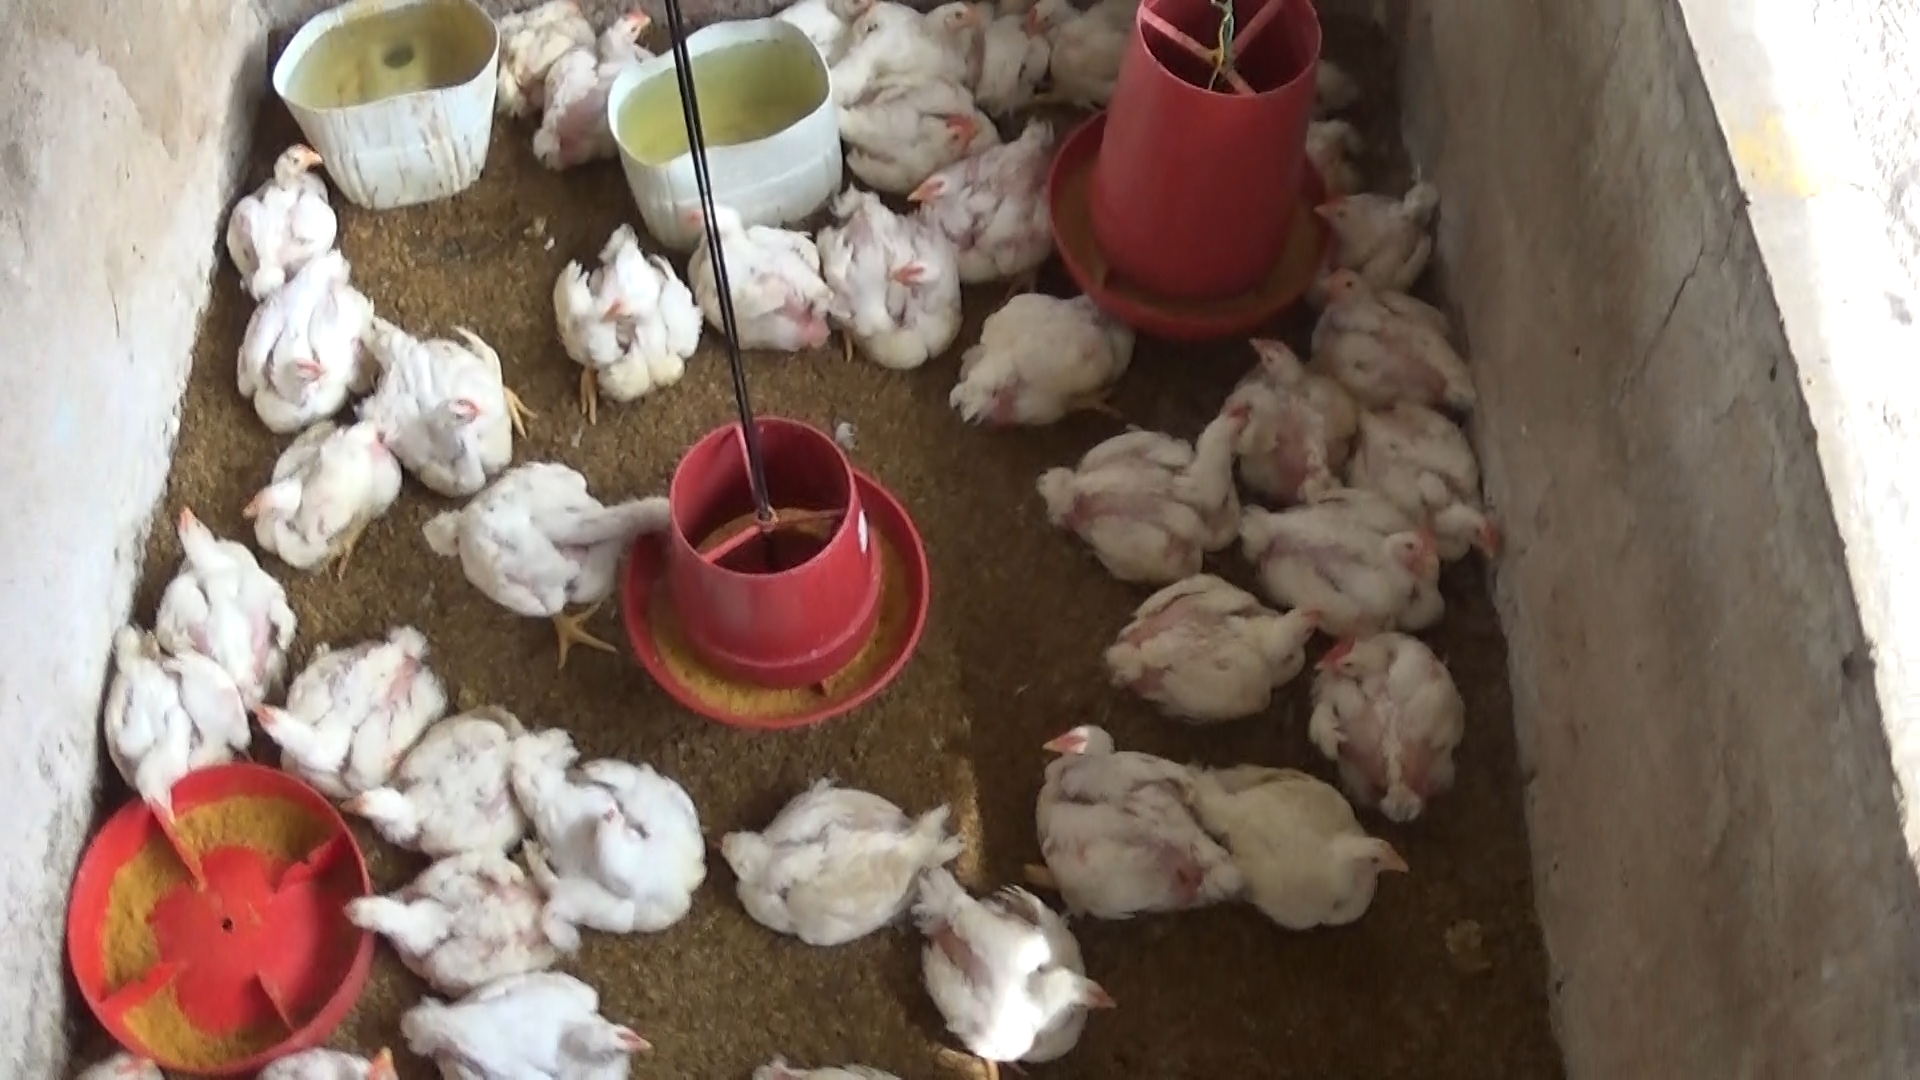Pollos: (419, 456, 680, 669), (716, 769, 982, 948), (1013, 717, 1244, 920), (1033, 393, 1269, 589), (906, 866, 1121, 1073), (1187, 746, 1418, 938), (517, 744, 717, 943), (1096, 564, 1341, 723), (245, 618, 454, 798), (331, 705, 571, 858), (1305, 626, 1477, 839), (1241, 473, 1458, 636), (334, 851, 585, 988), (363, 309, 533, 502), (154, 497, 290, 735), (385, 963, 653, 1080), (231, 415, 401, 592), (66, 607, 236, 782), (545, 228, 702, 415), (218, 251, 376, 431), (945, 284, 1135, 431), (1309, 258, 1493, 406), (1364, 397, 1509, 582), (818, 183, 959, 364), (905, 121, 1059, 285), (1230, 320, 1361, 504), (688, 189, 833, 349), (529, 7, 662, 175), (225, 137, 345, 295), (827, 3, 984, 117), (836, 79, 1006, 183), (1300, 164, 1443, 277), (1025, 1, 1160, 107), (493, 0, 597, 115), (1305, 103, 1385, 166)
